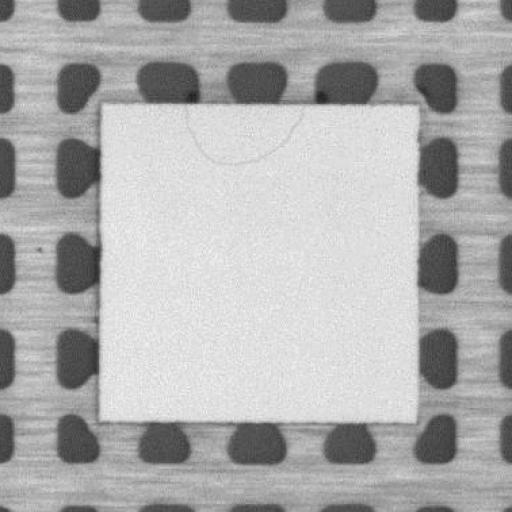DIE_CRACK: (182, 102, 306, 164)
